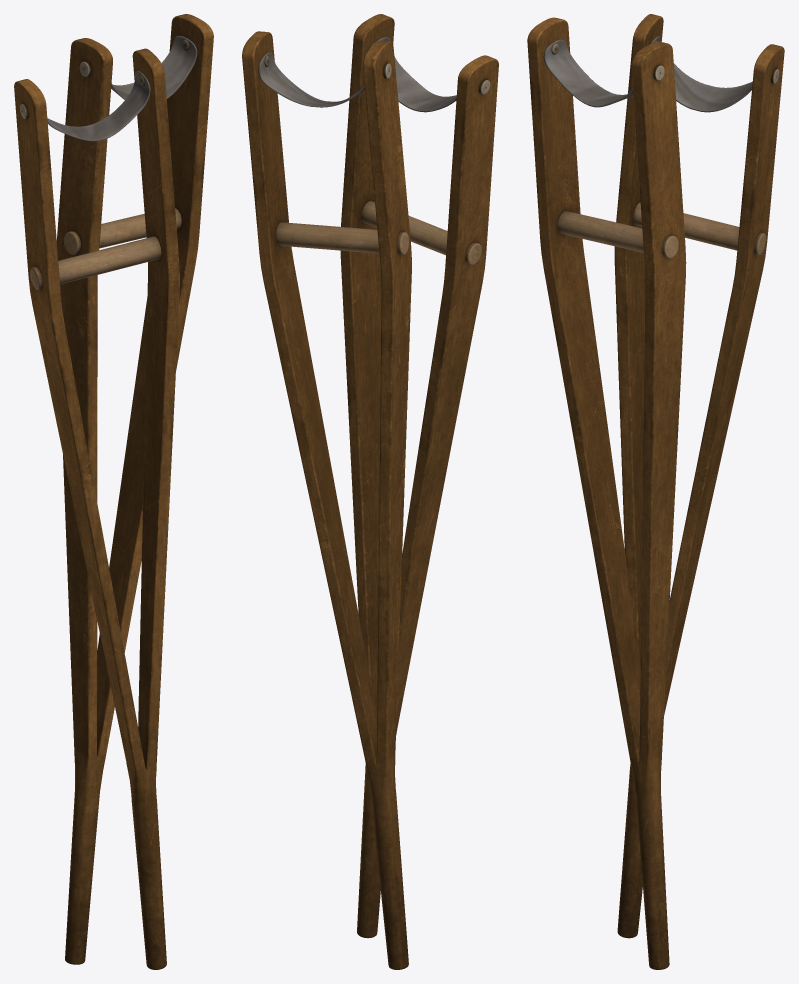
Rendered from vintage_crutches_01_4k.fbx.
3 views of the same model, side by side, from view 1: azimuth 30°, elevation 25°; view 2: azimuth 150°, elevation 25°; view 3: azimuth 330°, elevation 25° (orthographic).
Parts seen in each view (by area): view 1: vintage_crutches_01_crutch01, vintage_crutches_01_crutch02; view 2: vintage_crutches_01_crutch02, vintage_crutches_01_crutch01; view 3: vintage_crutches_01_crutch01, vintage_crutches_01_crutch02.
Boxes of the visible parts, box(x1,y1,x2,y2) form: vintage_crutches_01_crutch01: box(14, 48, 179, 969); vintage_crutches_01_crutch02: box(56, 14, 213, 964); vintage_crutches_01_crutch02: box(242, 31, 411, 969); vintage_crutches_01_crutch01: box(340, 14, 498, 938); vintage_crutches_01_crutch01: box(527, 17, 686, 969); vintage_crutches_01_crutch02: box(614, 14, 784, 938).
Size of the model in its own units: 38.38 by 160 by 20.36.
Materials: 1 (1 with a texture image).
